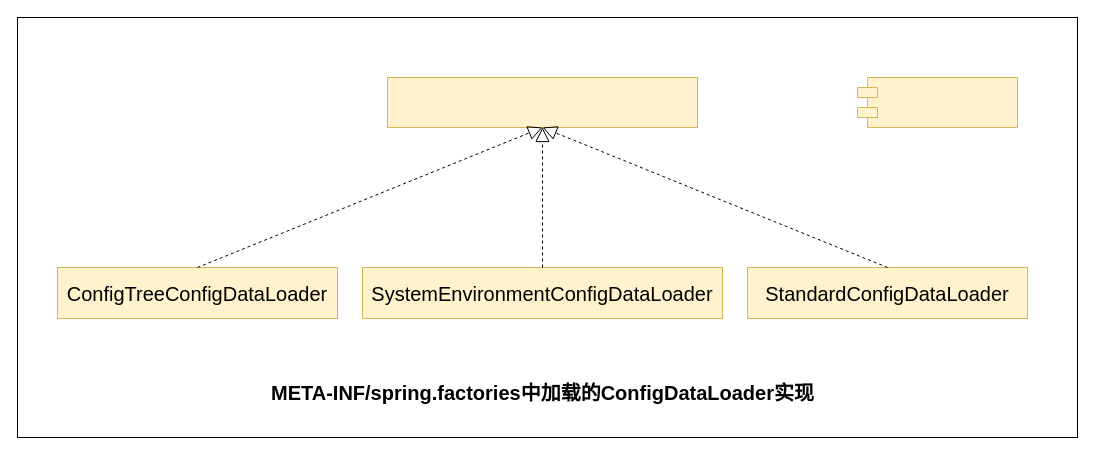
Some shapes in this 1095 by 455 pixel diagram are drawn without their labels. The shapes that lost their labels are listed below. From the top down, each one's centre as x and y in pixels, then its label:
At (542,102): "«interface» ConfigDataLoader".
At (937,102): "spring-boot".
